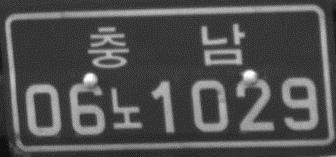0: (189, 77, 231, 132), (24, 82, 64, 139)
1: (150, 78, 176, 135)
2: (234, 75, 276, 136)
6: (68, 82, 106, 137)
9: (281, 75, 320, 134)
노: (106, 84, 146, 131)
충남_D: (84, 20, 247, 71)
